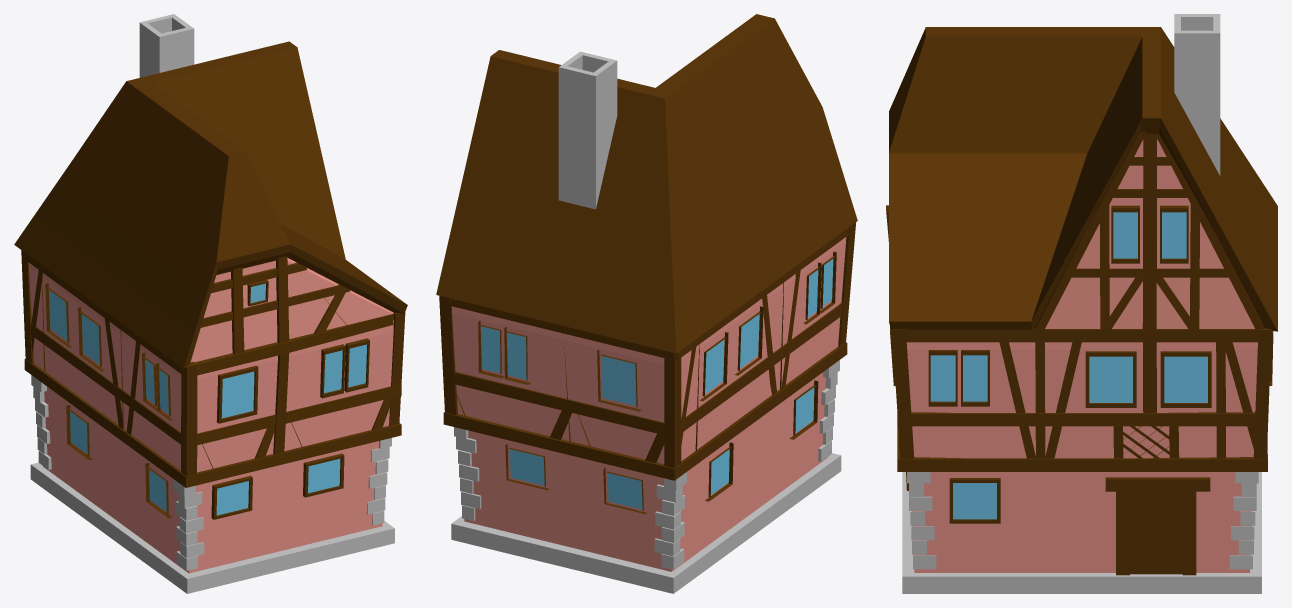
The picture shows the model from 3 angles, left to right: view 1: azimuth 30°, elevation 25°; view 2: azimuth 150°, elevation 25°; view 3: azimuth 270°, elevation 25°; orthographic projection. The views are drawn at different scales.
Size of the model in its own units: 0.1242 by 0.2369 by 0.1635.
